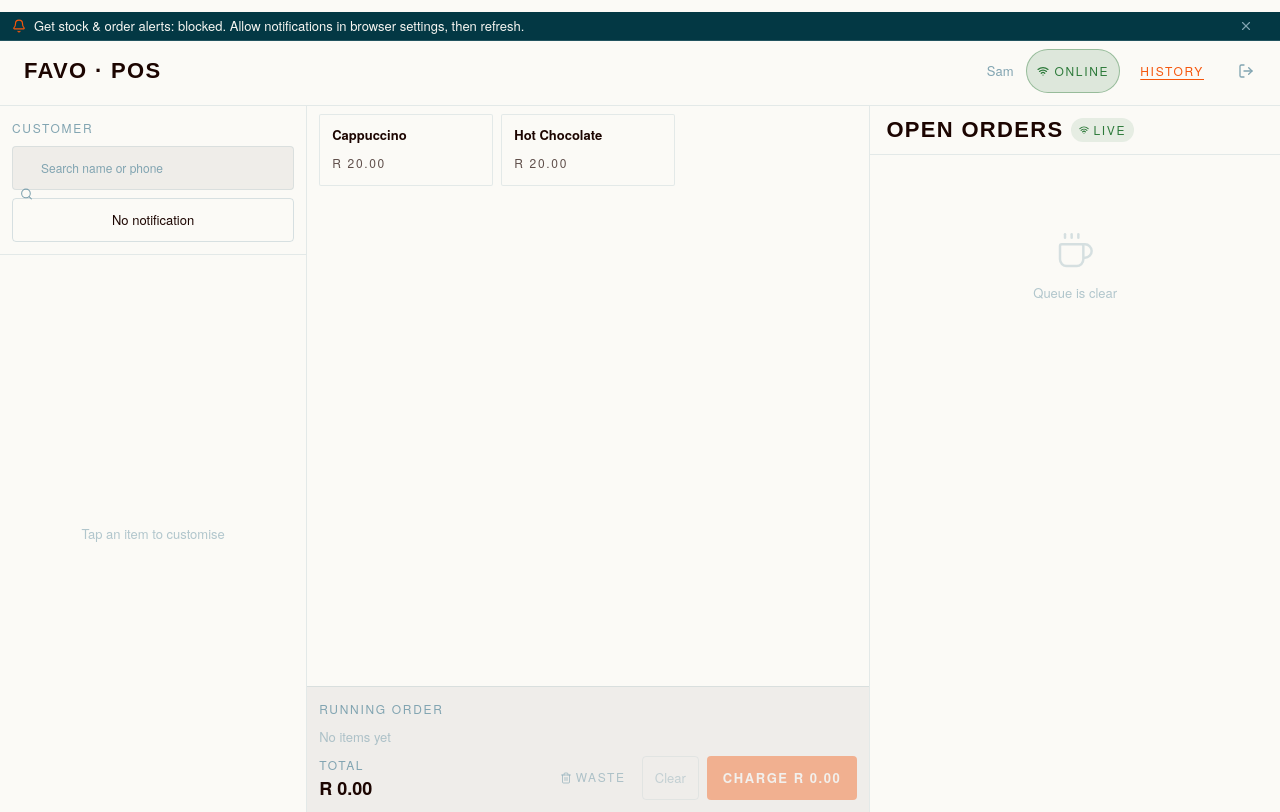
Test: AT-202 — shot picker (§6.2.3c, REQ-138, L48) › Sunday: four segments, 1 selected by default; spaced 44 px targets under one label
Click the button "Cappuccino R 20.00".
click(406, 150)  # box [319, 114, 493, 186]
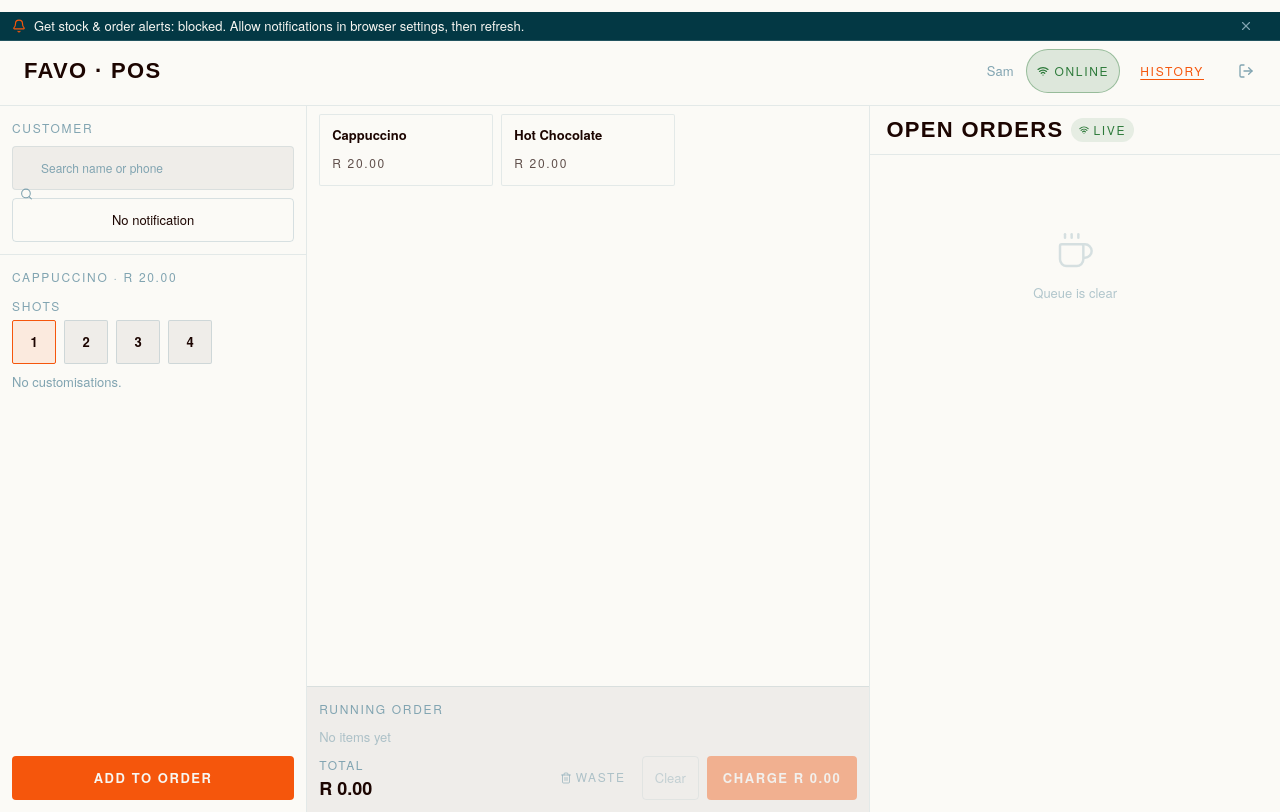
Result: the buttons read "1", "2", "3", "4", in this order at [12, 320, 56, 364]; [64, 320, 108, 364]; [116, 320, 160, 364]; [168, 320, 212, 364]
Result: the text "Shots" is shown at [12, 297, 61, 314]
